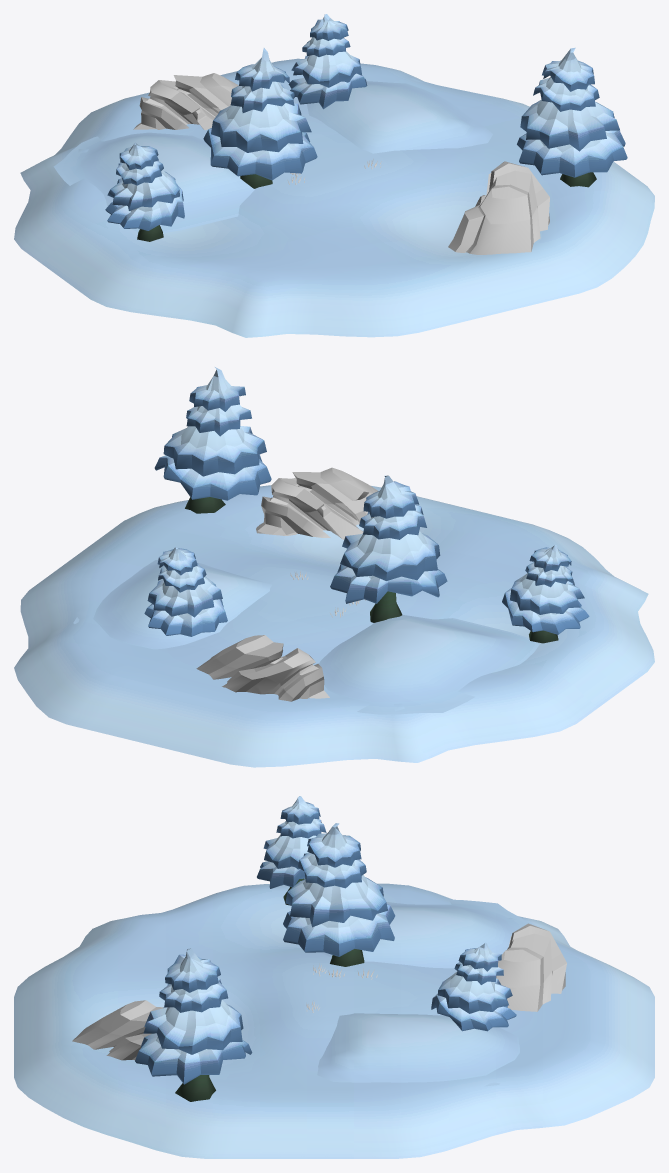
Rendered from SnowScene.fbx.
3 views of the same model, one above another, from view 1: azimuth 30°, elevation 25°; view 2: azimuth 150°, elevation 25°; view 3: azimuth 270°, elevation 25° (orthographic). The views are drawn at different scales.
Visible parts, largest first — view 1: pPlane5, polySurface3589, polySurface3590, pCube24, pCube26; view 2: pPlane5, polySurface3589, polySurface3590, pCube24, pCube26; view 3: pPlane5, polySurface3590, polySurface3589, pCube26, pCube24.
Boxes of the visible parts, box(x1,y1,x2,y2) form: pPlane5: box(14, 58, 654, 337); polySurface3589: box(105, 48, 317, 241); polySurface3590: box(288, 14, 627, 187); pCube24: box(448, 161, 549, 254); pCube26: box(133, 73, 238, 130); pPlane5: box(14, 485, 654, 767); polySurface3589: box(330, 475, 589, 643); polySurface3590: box(144, 367, 271, 636); pCube24: box(256, 467, 378, 539); pCube26: box(196, 635, 329, 701); pPlane5: box(14, 883, 654, 1158); polySurface3590: box(135, 942, 516, 1101); polySurface3589: box(257, 796, 395, 966); pCube26: box(496, 923, 566, 1011); pCube24: box(72, 1000, 163, 1060).
Bounding box in the file's own units: 47.34 × 14.34 × 47.67.
